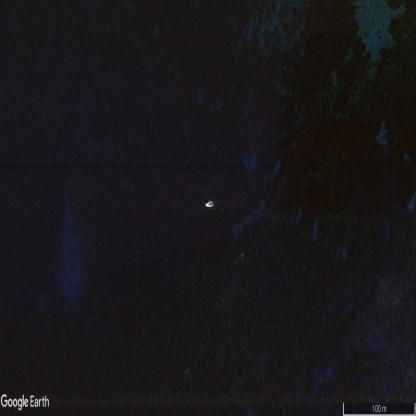ship: (206, 202, 213, 207)
